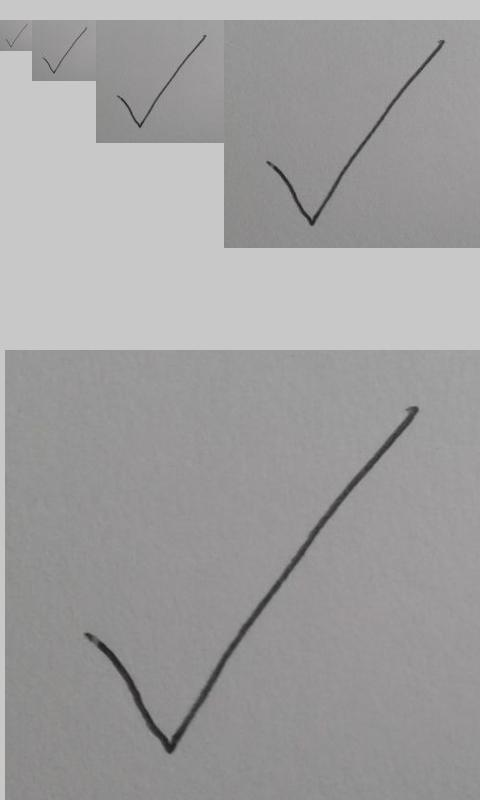check_box: (86, 408, 419, 753), (267, 40, 444, 225), (117, 34, 206, 128), (42, 27, 87, 74), (5, 23, 28, 48)
